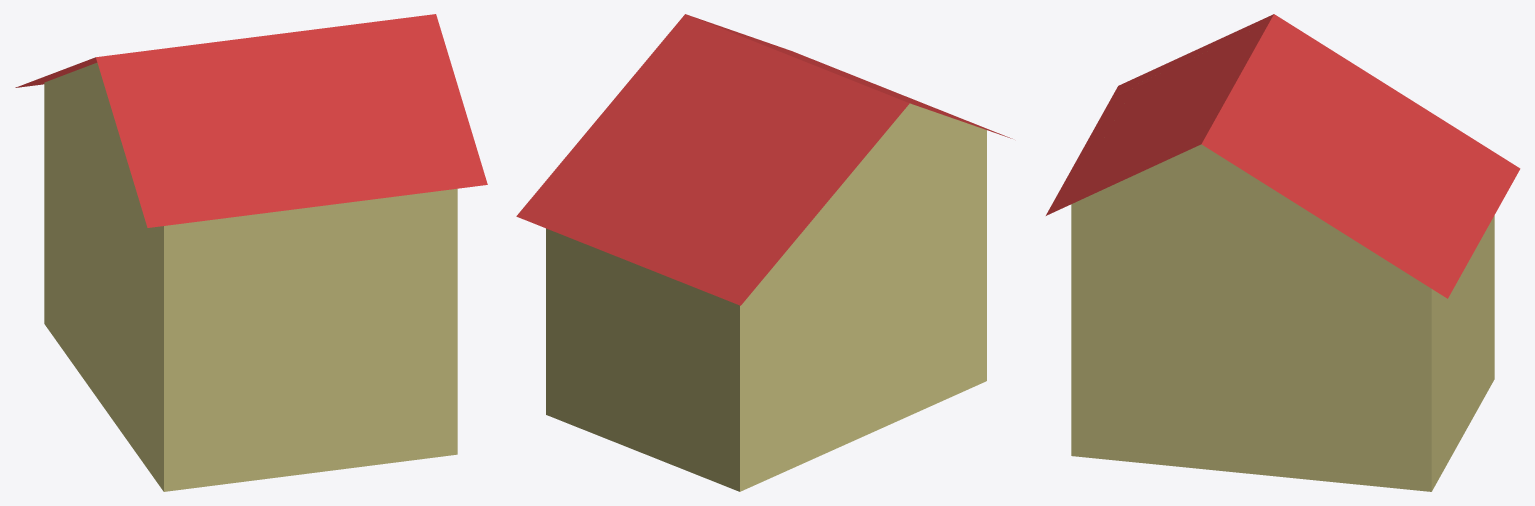
3 renders of one model, left to right at view 1: azimuth 30°, elevation 25°; view 2: azimuth 150°, elevation 25°; view 3: azimuth 270°, elevation 25°, orthographic. The views are drawn at different scales.
Size of the model in its own units: 9.31 by 10.97 by 8.51.
